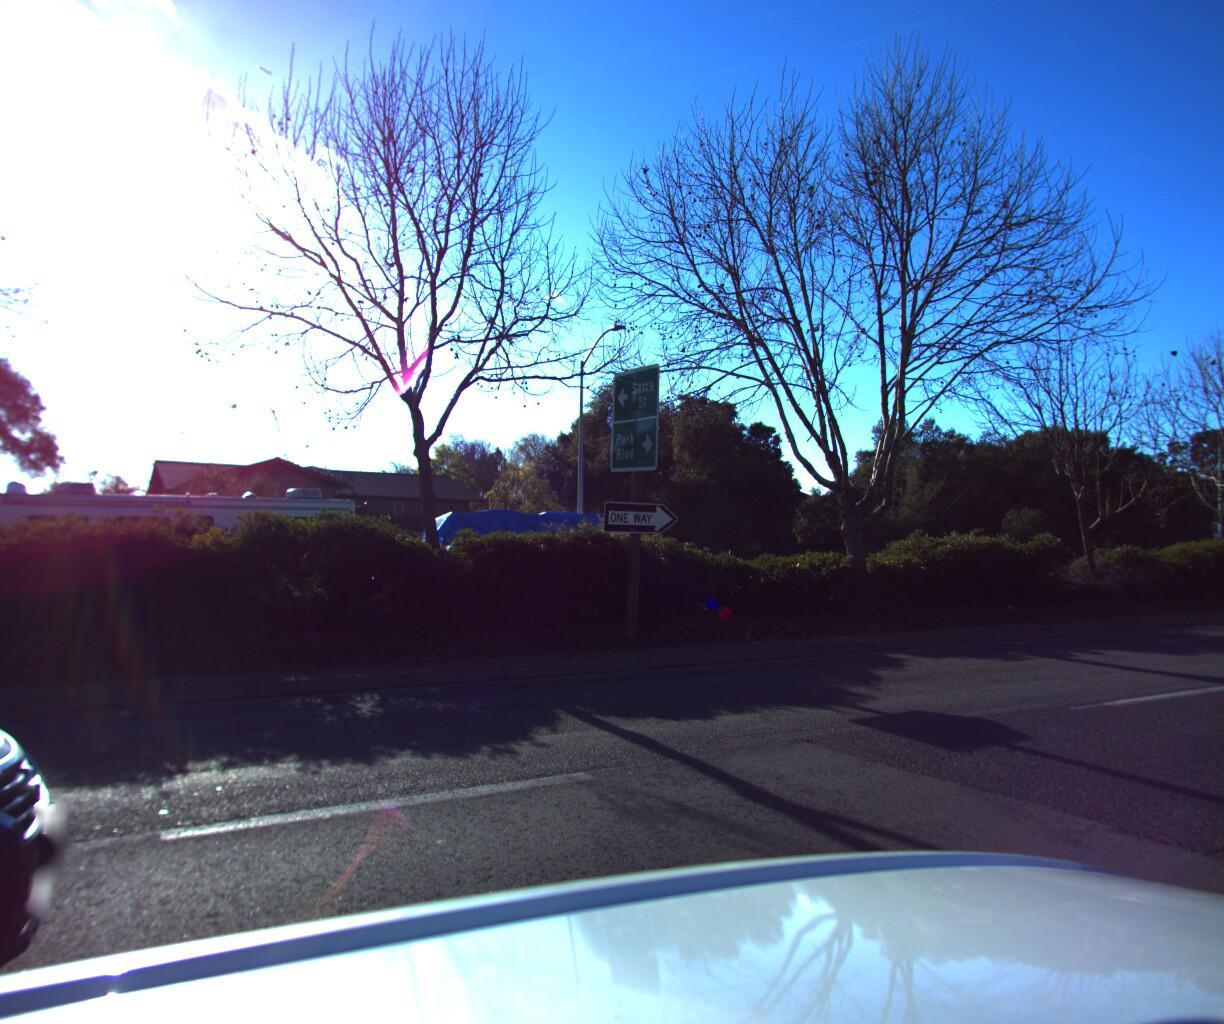other_vehicle: (0, 466, 373, 635), (402, 498, 648, 618)
